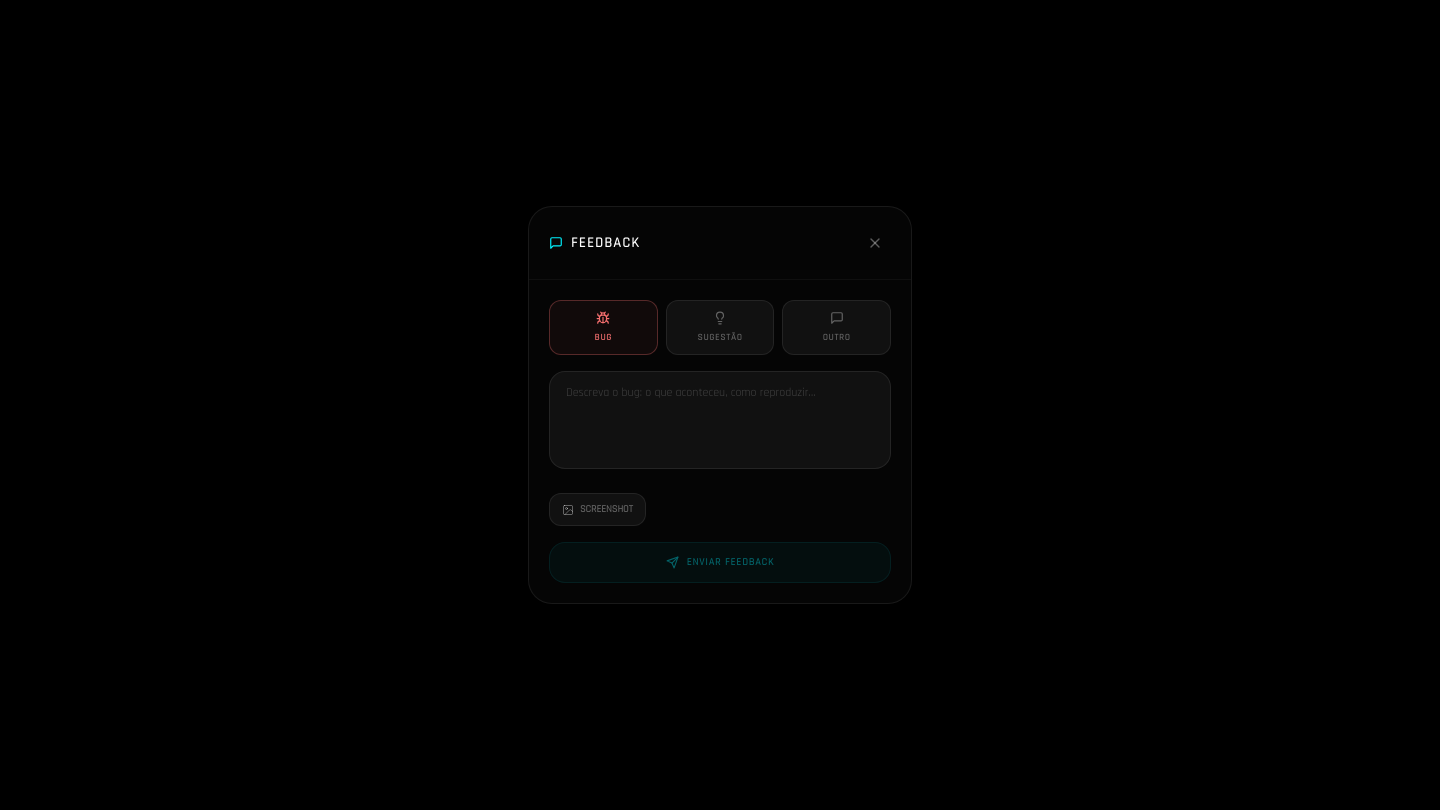
FeedbackModal — submit › botão enviar fica habilitado após digitar texto
In the text box named "Descrição do feedback": (720, 420) [549, 371, 891, 469], type "Um bug encontrado"
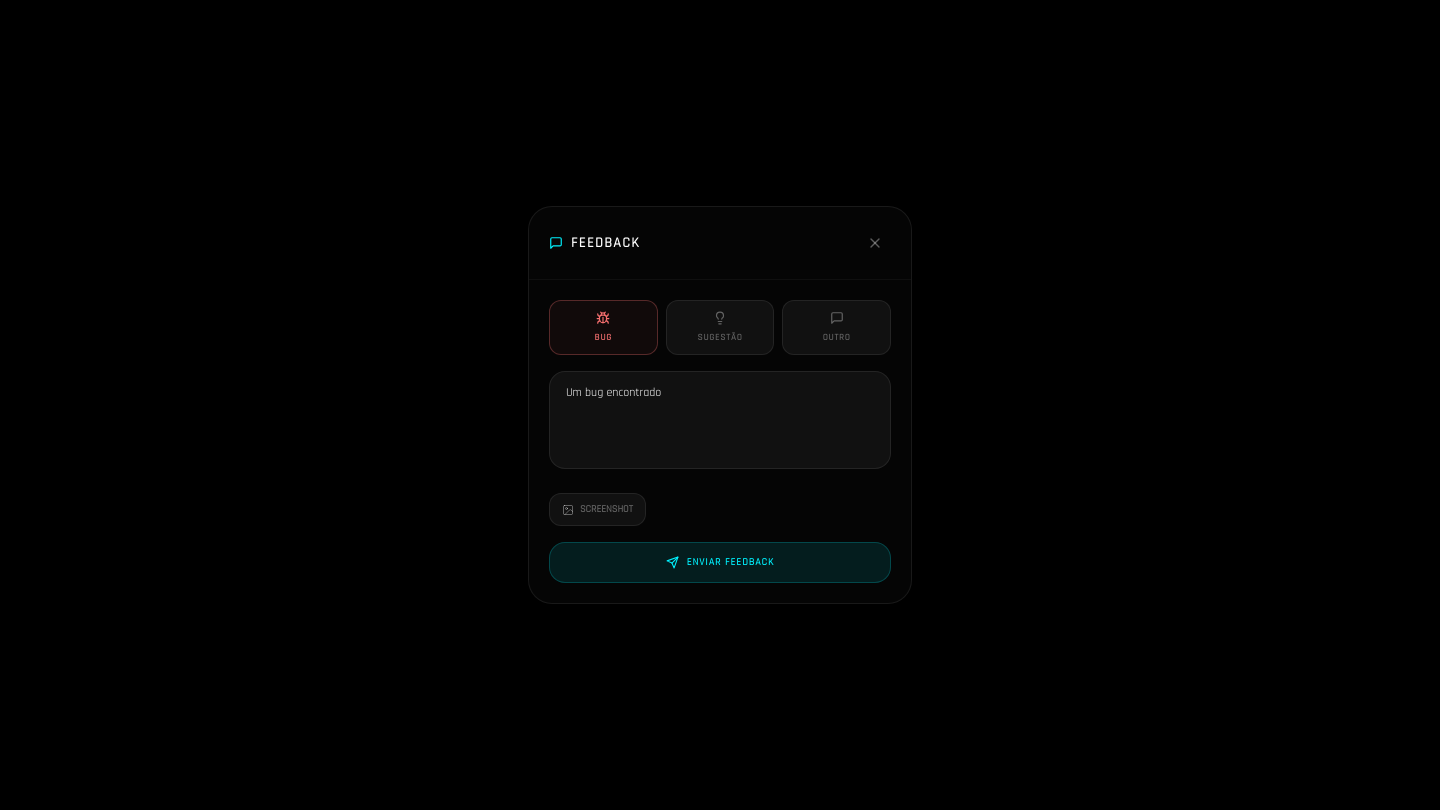
Expected: the button "Enviar feedback" is enabled, [549, 542, 891, 583]
